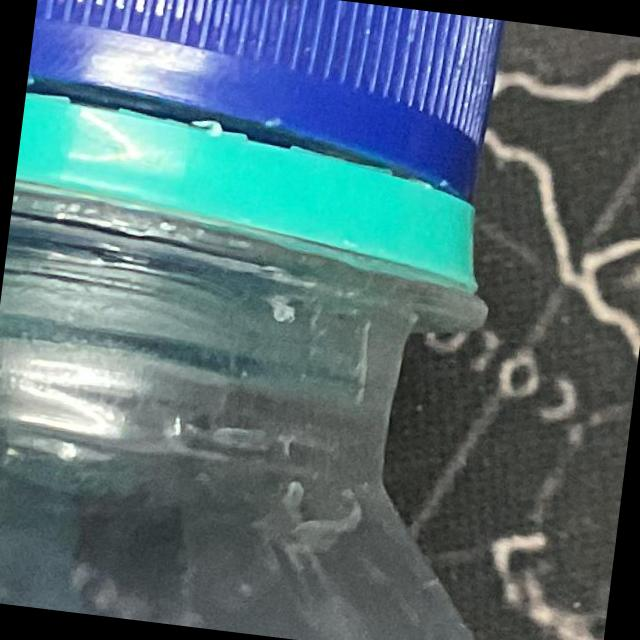Good-cap-Df0S: (5, 0, 535, 316)
